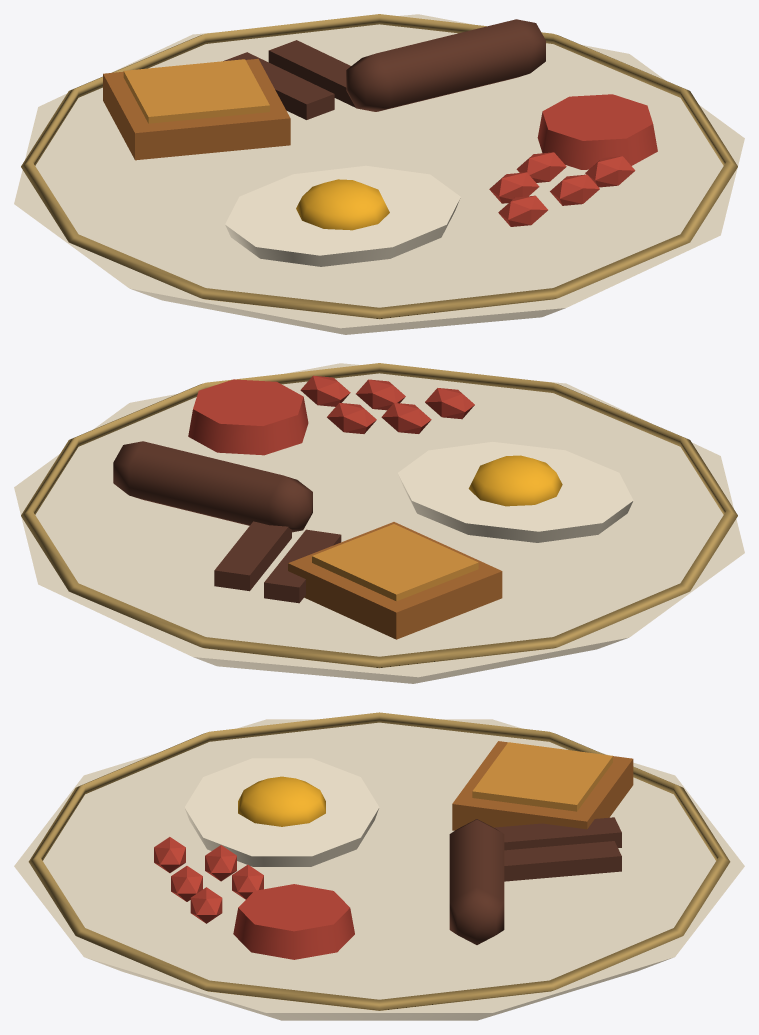
Rendered from english-breakfast.glb.
3 views of the same model, one above another, from view 1: azimuth 30°, elevation 25°; view 2: azimuth 150°, elevation 25°; view 3: azimuth 270°, elevation 25° (orthographic). The views are drawn at different scales.
Visible parts, largest first — view 1: english-breakfast; view 2: english-breakfast; view 3: english-breakfast.
Boxes of the visible parts, left/top/right/bottom form: english-breakfast: left=14, top=14, right=744, bottom=334; english-breakfast: left=14, top=363, right=744, bottom=683; english-breakfast: left=14, top=712, right=744, bottom=1020.
Bounding box in the file's own units: 0.288 × 0.043 × 0.3.
